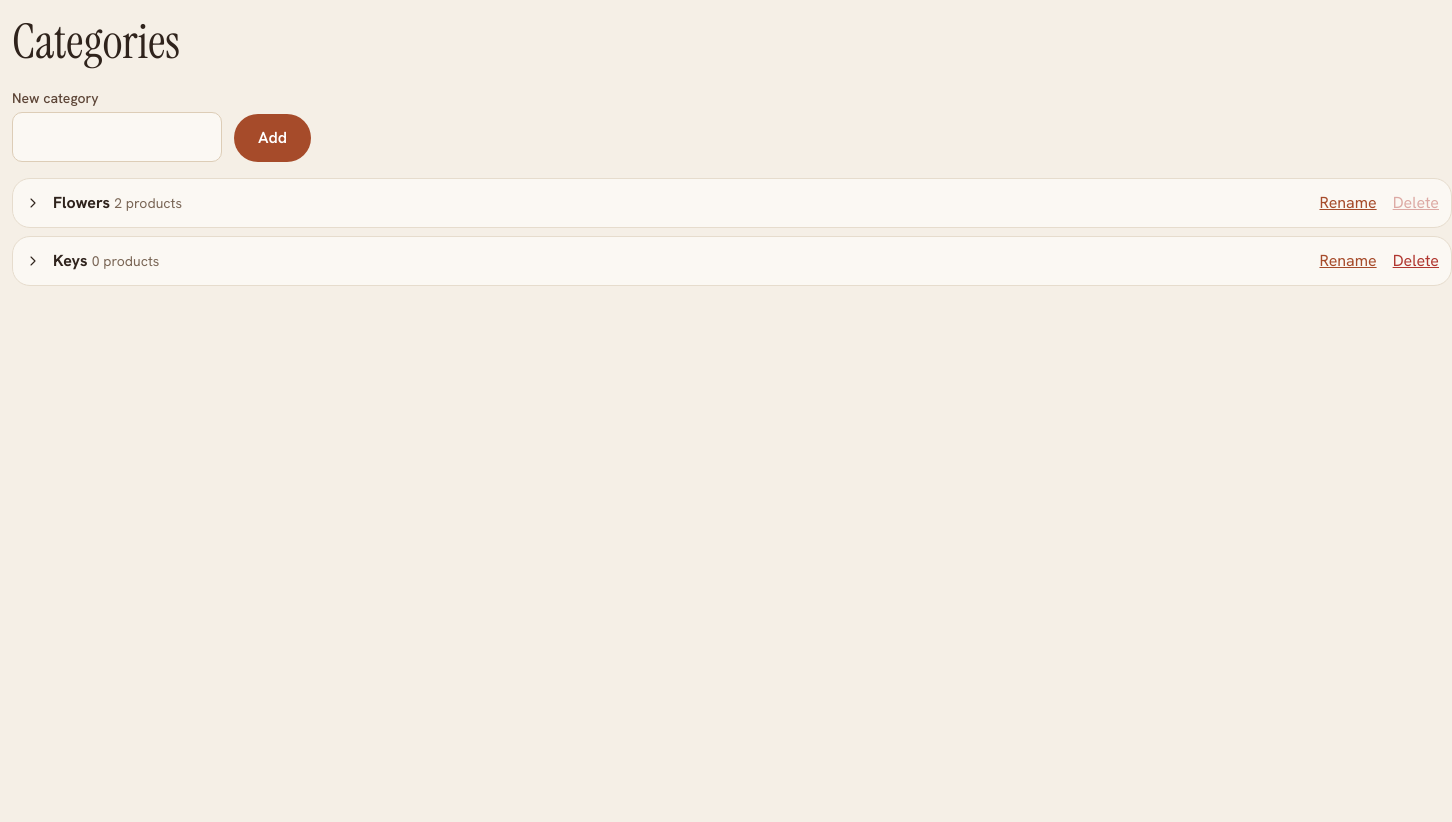
Test: opens a category to show its products with pictures, and closes it again
The image size is (1452, 822).
Click the button "Flowers 2 products" at (104, 203), box [25,191,182,215]
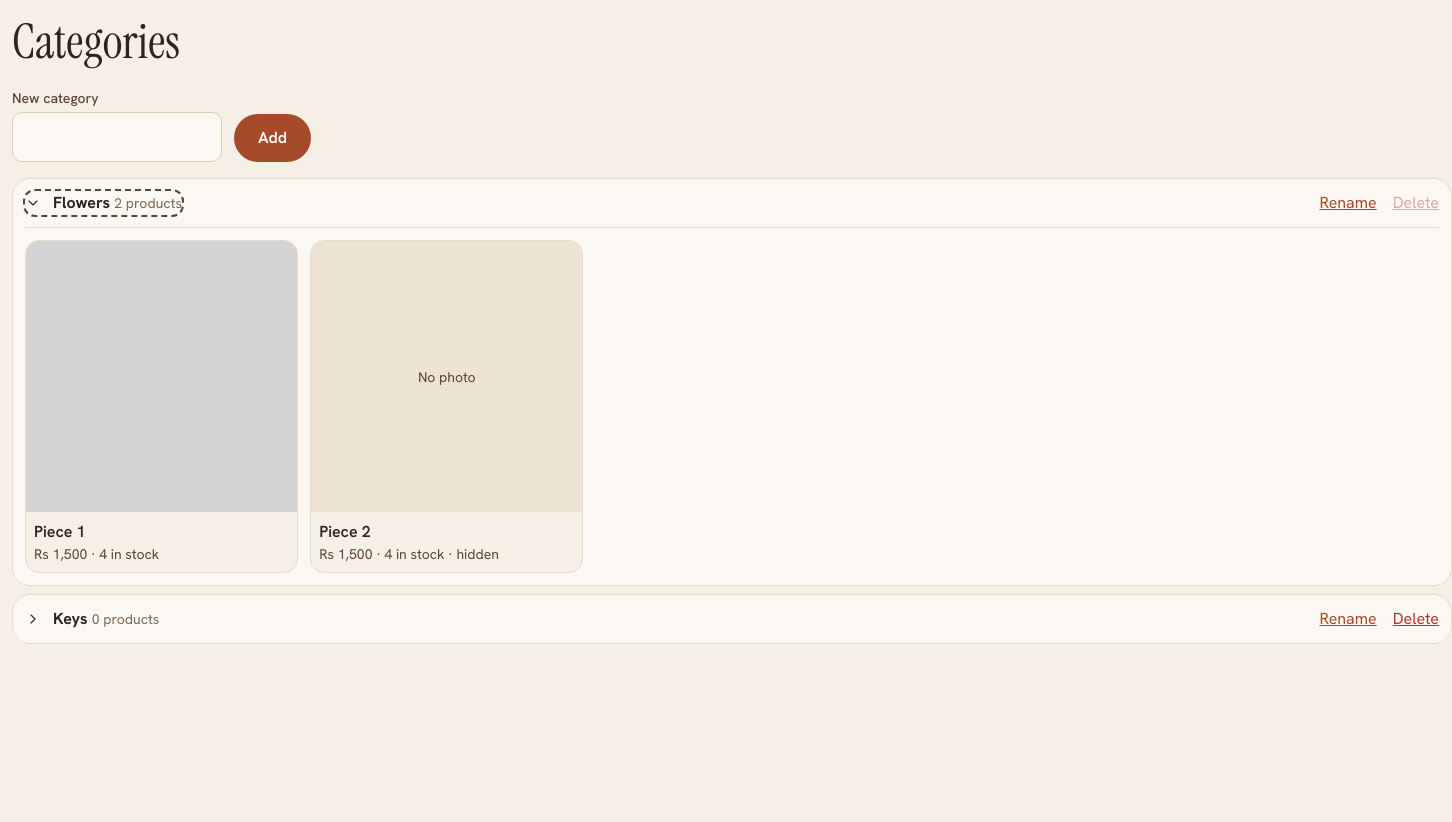
Now the button "Flowers 2 products" is expanded
Now the link "No photo Piece 2 Rs 1,500 · 4 in stock · hidden" is shown, box [310,240,583,573]
Click the button "Flowers 2 products" at (104, 203), box [25,191,182,215]
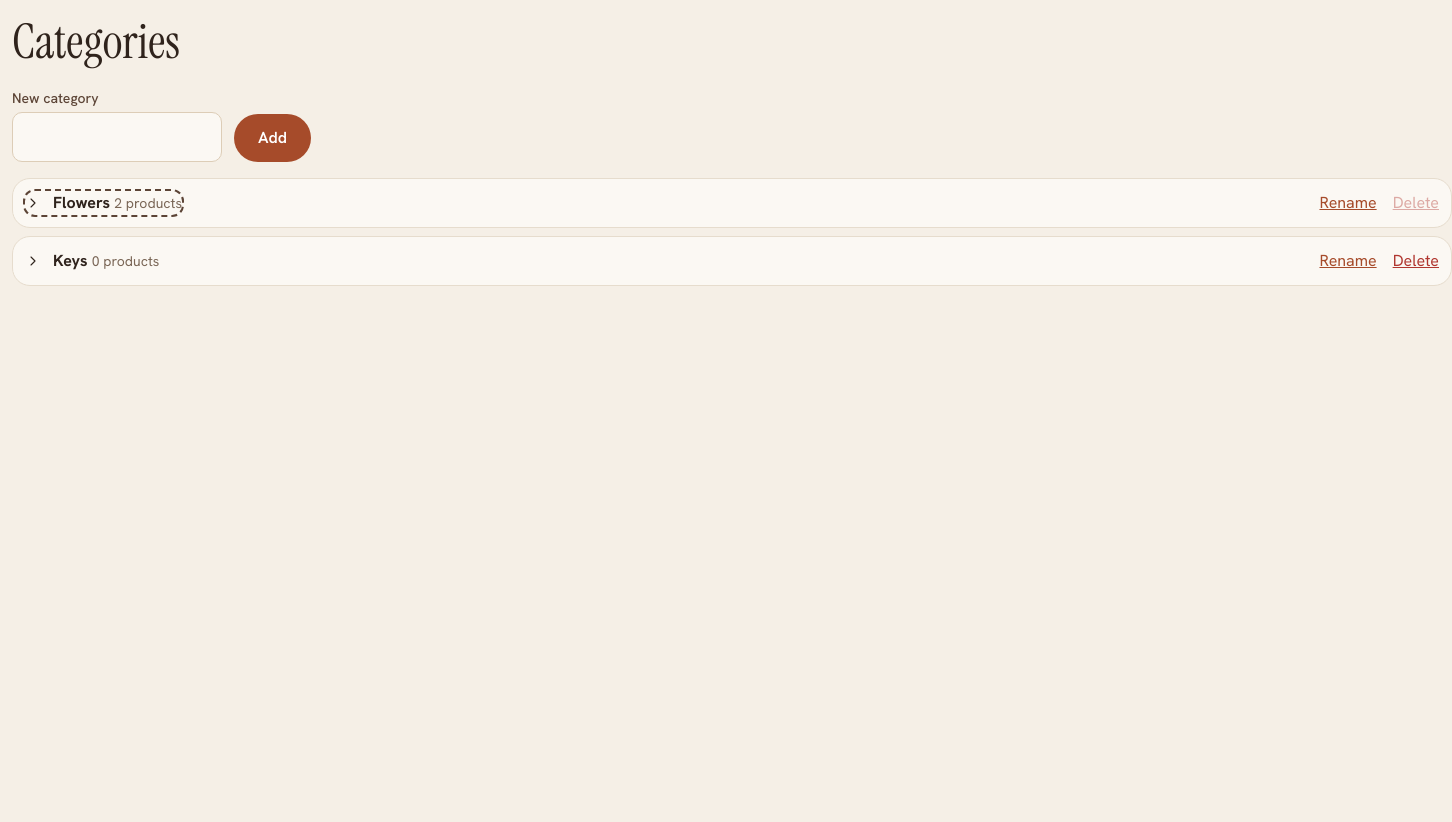
Now the link "Piece 1" is gone
